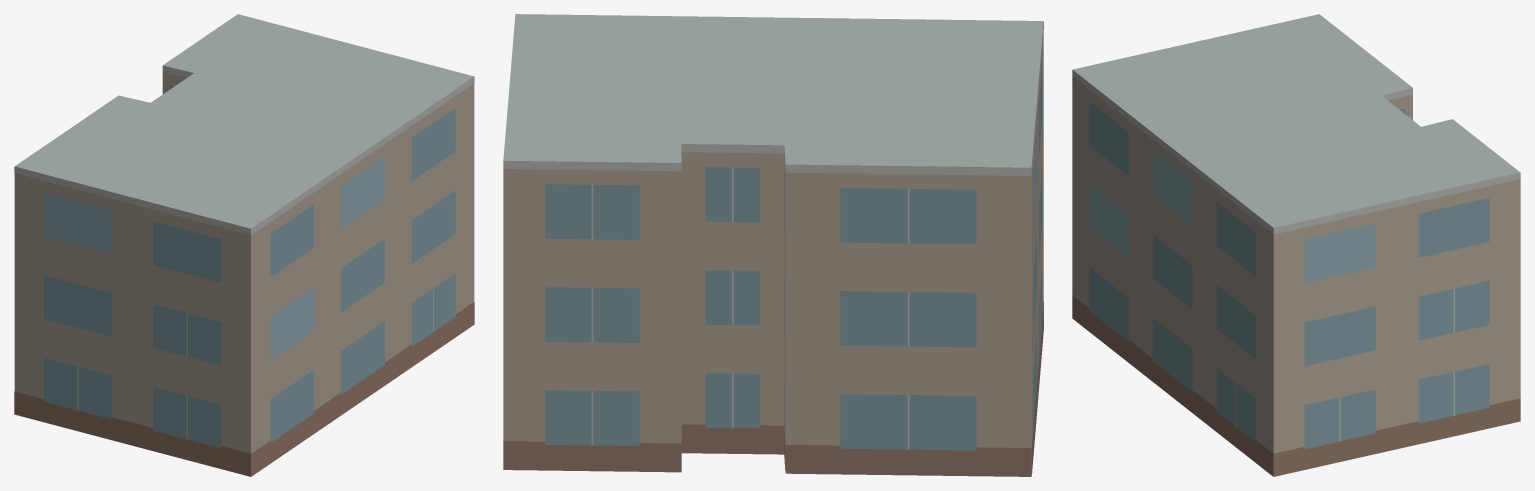
File: survey-upis-32694468.glb
3 renders of one model, left to right at view 1: azimuth 30°, elevation 25°; view 2: azimuth 150°, elevation 25°; view 3: azimuth 270°, elevation 25°, orthographic. The views are drawn at different scales.
Parts seen in each view (by area): view 1: survey-upis-32694468.tmp; view 2: survey-upis-32694468.tmp; view 3: survey-upis-32694468.tmp.
Part boxes in pixels (bbox=[...]): survey-upis-32694468.tmp: bbox=[14, 14, 474, 476]; survey-upis-32694468.tmp: bbox=[503, 14, 1043, 476]; survey-upis-32694468.tmp: bbox=[1072, 14, 1520, 476].
Bounding box in the file's own units: 16.88 × 9.15 × 14.94.
